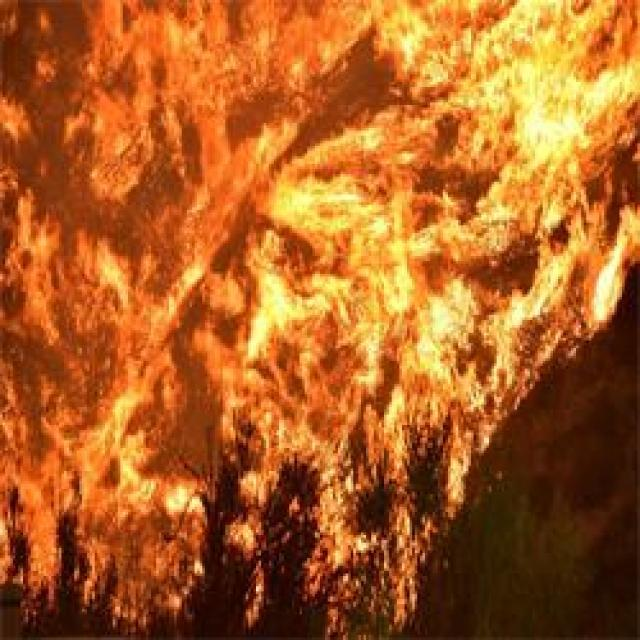Fire: (0, 105, 239, 605), (430, 0, 638, 343), (246, 245, 424, 640)
